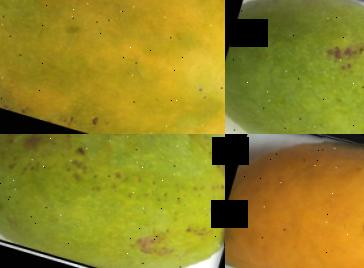PartiallyRipe: (0, 0, 225, 134)
Ripe: (225, 134, 364, 268)
Unripe: (0, 134, 225, 268), (225, 0, 364, 134)
